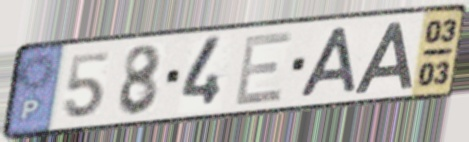4: (179, 32, 228, 114)
5: (59, 50, 113, 121)
8: (118, 42, 166, 117)
A: (351, 18, 415, 96), (296, 24, 359, 101)
E: (231, 28, 296, 109)
